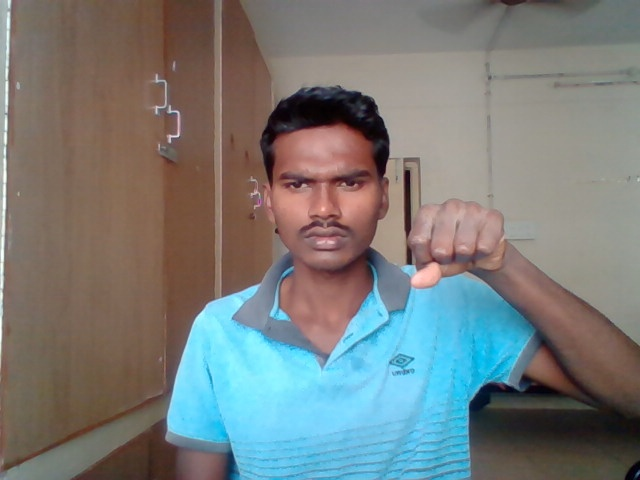Thank You: (407, 200, 505, 290)
